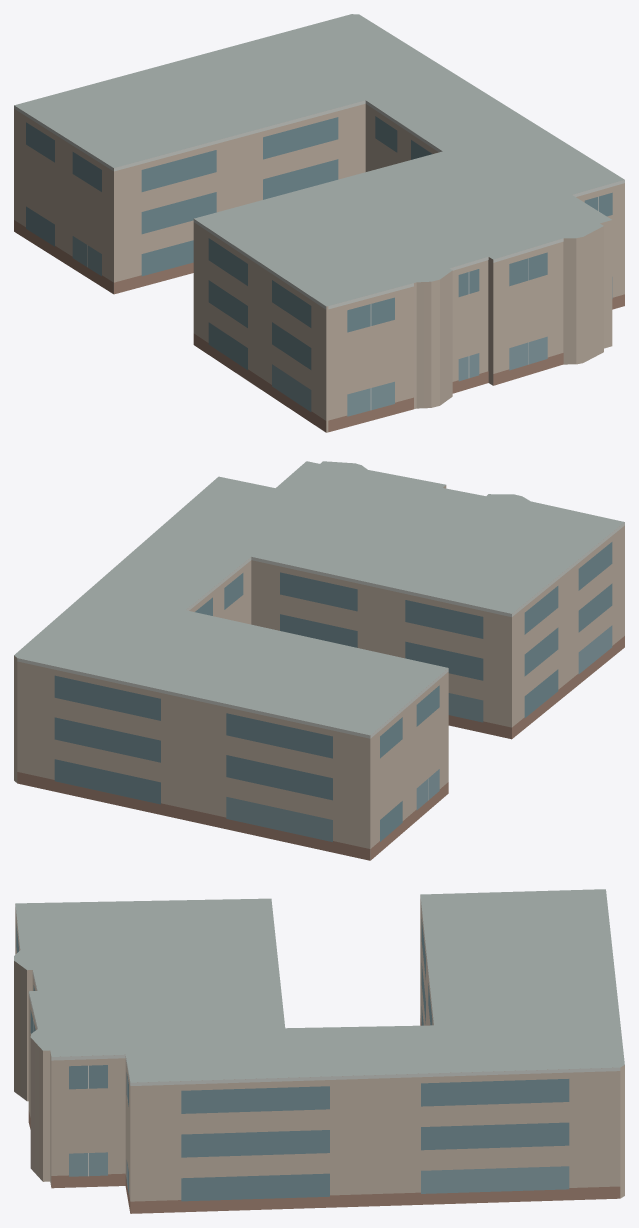
The model's file is survey-upis-32782074.glb.
3 renders of one model, top to bottom at view 1: azimuth 30°, elevation 25°; view 2: azimuth 150°, elevation 25°; view 3: azimuth 270°, elevation 25°, orthographic. The views are drawn at different scales.
Parts seen in each view (by area): view 1: survey-upis-32782074.tmp; view 2: survey-upis-32782074.tmp; view 3: survey-upis-32782074.tmp.
Boxes of the visible parts, x1,y1,x2,y2 form: survey-upis-32782074.tmp: (14,14,624,432); survey-upis-32782074.tmp: (14,461,624,860); survey-upis-32782074.tmp: (14,889,624,1213).
Size of the model in its own units: 28.97 by 9.15 by 38.64.
